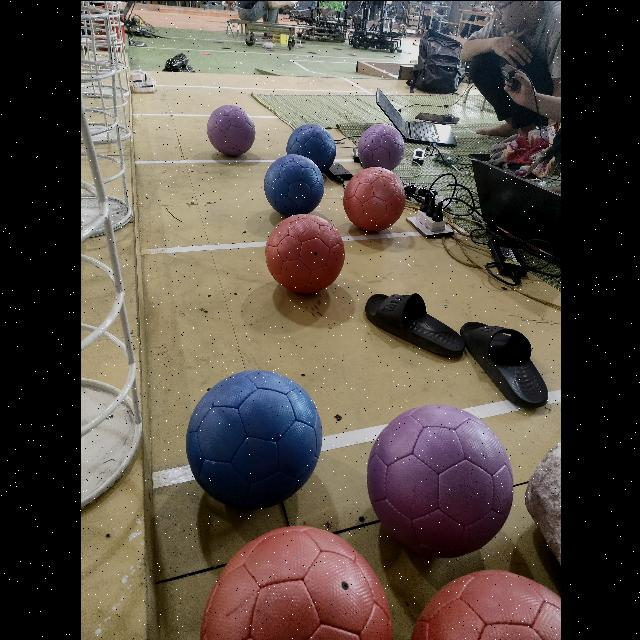B: (185, 369, 322, 508), (263, 153, 323, 215)
P: (366, 404, 512, 556), (206, 104, 254, 154), (356, 123, 404, 169)
R: (199, 526, 391, 640), (408, 570, 560, 640), (265, 212, 343, 292), (342, 166, 403, 230)
